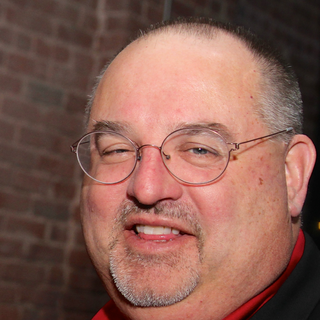eye: (177, 138, 217, 162), (98, 142, 138, 161)
